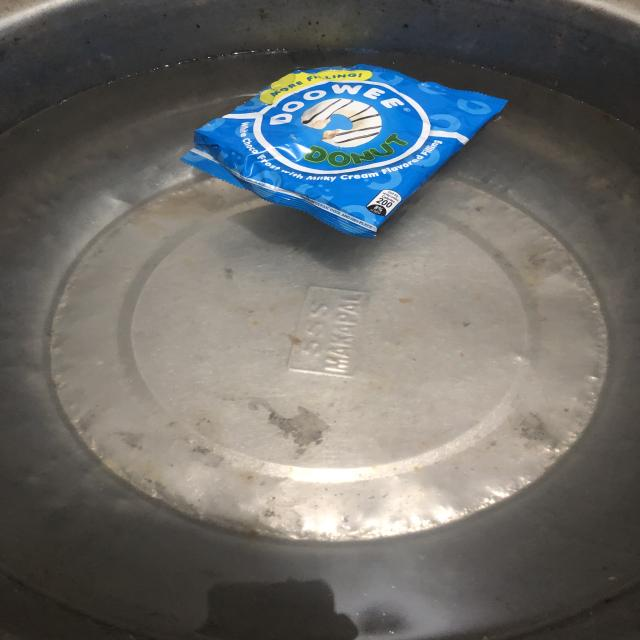Plastic Wrapper: (182, 64, 506, 237)
